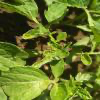Tomato leaf mosaic virus: (3, 66, 50, 98), (31, 41, 72, 68), (43, 1, 68, 28), (18, 26, 57, 41), (44, 54, 67, 78), (48, 82, 69, 99), (75, 71, 97, 84), (72, 86, 92, 99), (78, 52, 94, 67)
